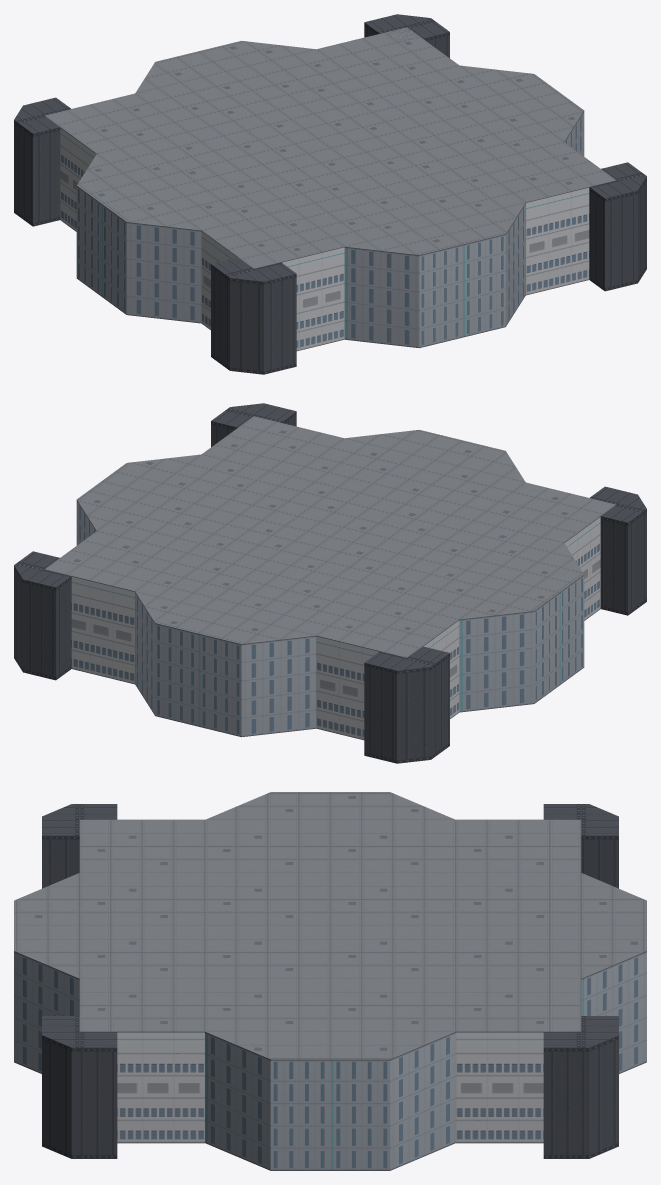
Rendered from BLD_FLR_W_Plain.fbx.
3 renders of one model, top to bottom at view 1: azimuth 30°, elevation 25°; view 2: azimuth 150°, elevation 25°; view 3: azimuth 270°, elevation 25°, orthographic. The views are drawn at different scales.
Parts seen in each view (by area): view 1: BLD_FLR_W_Plain; view 2: BLD_FLR_W_Plain; view 3: BLD_FLR_W_Plain.
Part boxes in pixels (x1,y1,x2,y2): BLD_FLR_W_Plain: [14, 14, 646, 374]; BLD_FLR_W_Plain: [14, 403, 646, 763]; BLD_FLR_W_Plain: [14, 792, 646, 1170].
Bounding box in the file's own units: 126 × 24.5 × 126.
